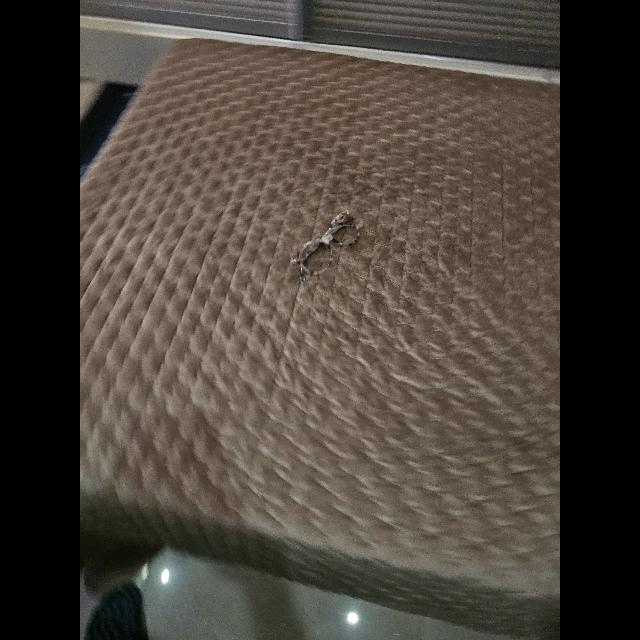glasses: (291, 212, 363, 282)
